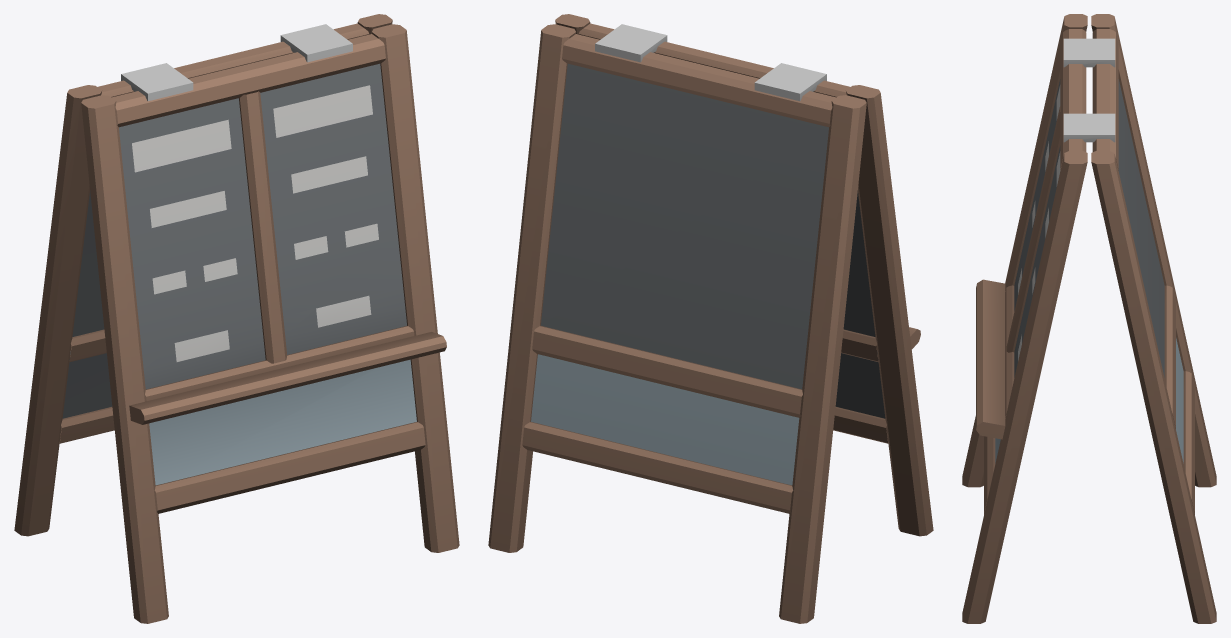
File: board.glb
3 views of the same model, side by side, from view 1: azimuth 30°, elevation 25°; view 2: azimuth 150°, elevation 25°; view 3: azimuth 270°, elevation 25° (orthographic). The views are drawn at different scales.
Visible parts, largest first — view 1: board; view 2: board; view 3: board.
Part boxes in pixels (box(x1,y1,x2,y2)): board: box(14, 14, 459, 623); board: box(488, 14, 933, 623); board: box(962, 14, 1216, 623).
Bounding box in the file's own units: 0.7 × 1 × 0.5009.
